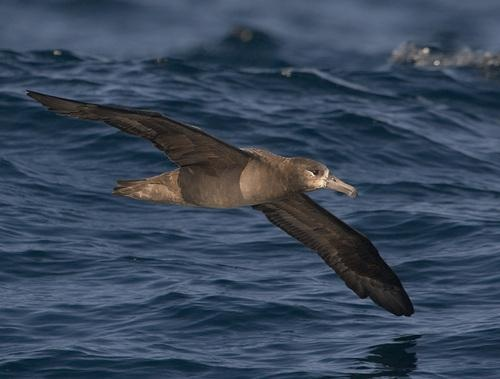bird: (21, 84, 418, 317)
